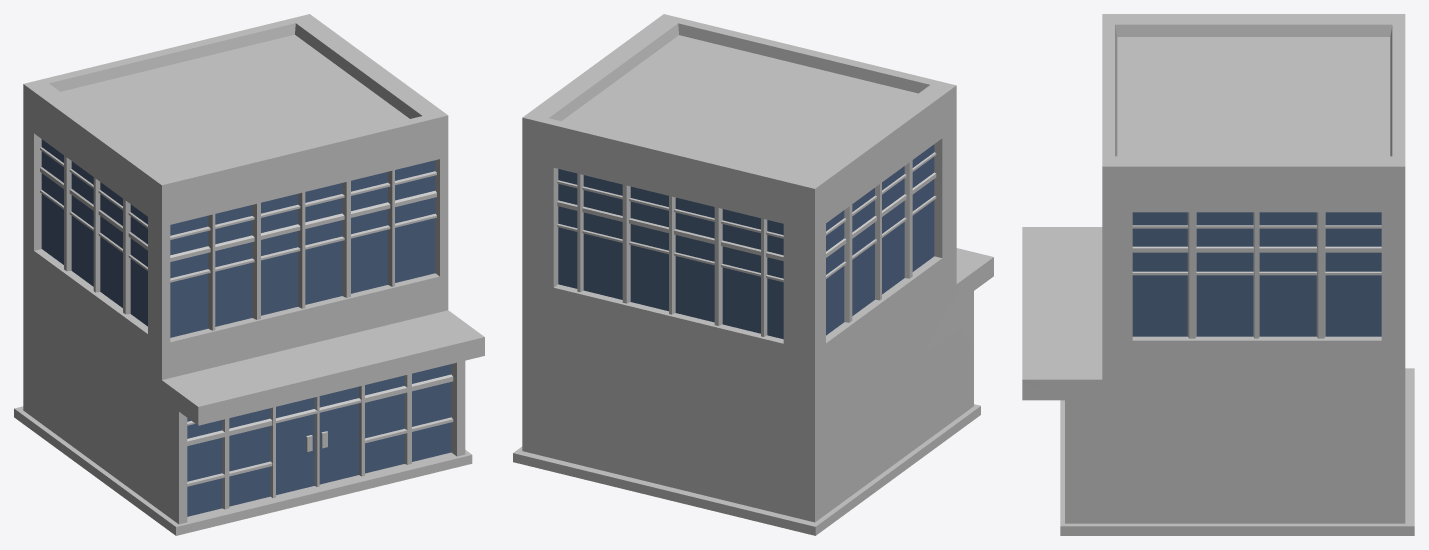
The model's file is SM_Gen_Bld_Background_01.obj.
3 renders of one model, left to right at view 1: azimuth 30°, elevation 25°; view 2: azimuth 150°, elevation 25°; view 3: azimuth 270°, elevation 25°, orthographic. The views are drawn at different scales.
Visible parts, largest first — view 1: SM_Gen_Bld_Background_01_0, SM_Gen_Bld_Background_01_1; view 2: SM_Gen_Bld_Background_01_0, SM_Gen_Bld_Background_01_1; view 3: SM_Gen_Bld_Background_01_0, SM_Gen_Bld_Background_01_1.
Part boxes in pixels (x1,y1,x2,y2): SM_Gen_Bld_Background_01_0: [14, 14, 484, 535]; SM_Gen_Bld_Background_01_1: [41, 139, 451, 516]; SM_Gen_Bld_Background_01_0: [513, 14, 993, 535]; SM_Gen_Bld_Background_01_1: [558, 144, 934, 339]; SM_Gen_Bld_Background_01_0: [1022, 14, 1414, 535]; SM_Gen_Bld_Background_01_1: [1132, 212, 1381, 336].
Bounding box in the file's own units: 8.24 × 8.91 × 8.64.
